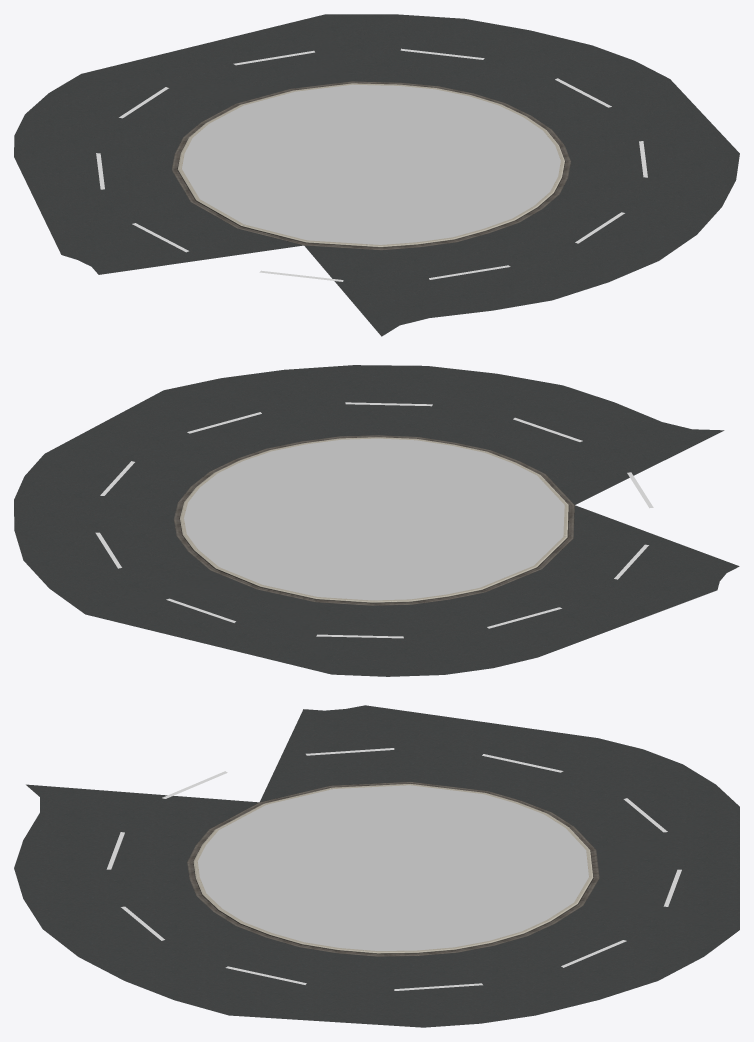
Rendered from New_Terrain_Area_28.fbx.
3 renders of one model, top to bottom at view 1: azimuth 30°, elevation 25°; view 2: azimuth 150°, elevation 25°; view 3: azimuth 270°, elevation 25°, orthographic. The views are drawn at different scales.
Parts seen in each view (by area): view 1: Road_20.001, Area_28, Road_Alpha_59; view 2: Road_20.001, Area_28, Road_Alpha_59; view 3: Road_20.001, Area_28, Road_Alpha_59.
Boxes of the visible parts, box(x1,y1,x2,y2) form: Road_20.001: box(14, 14, 739, 336); Area_28: box(171, 81, 571, 250); Road_Alpha_59: box(96, 48, 647, 281); Road_20.001: box(14, 365, 739, 676); Area_28: box(173, 435, 574, 605); Road_Alpha_59: box(95, 402, 653, 638); Road_20.001: box(14, 705, 739, 1027); Area_28: box(187, 781, 599, 956); Road_Alpha_59: box(106, 748, 681, 990).
Bounding box in the file's own units: 4777 × 7.15 × 4547.
